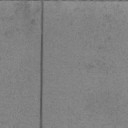surface scratch: (40, 0, 44, 128)
